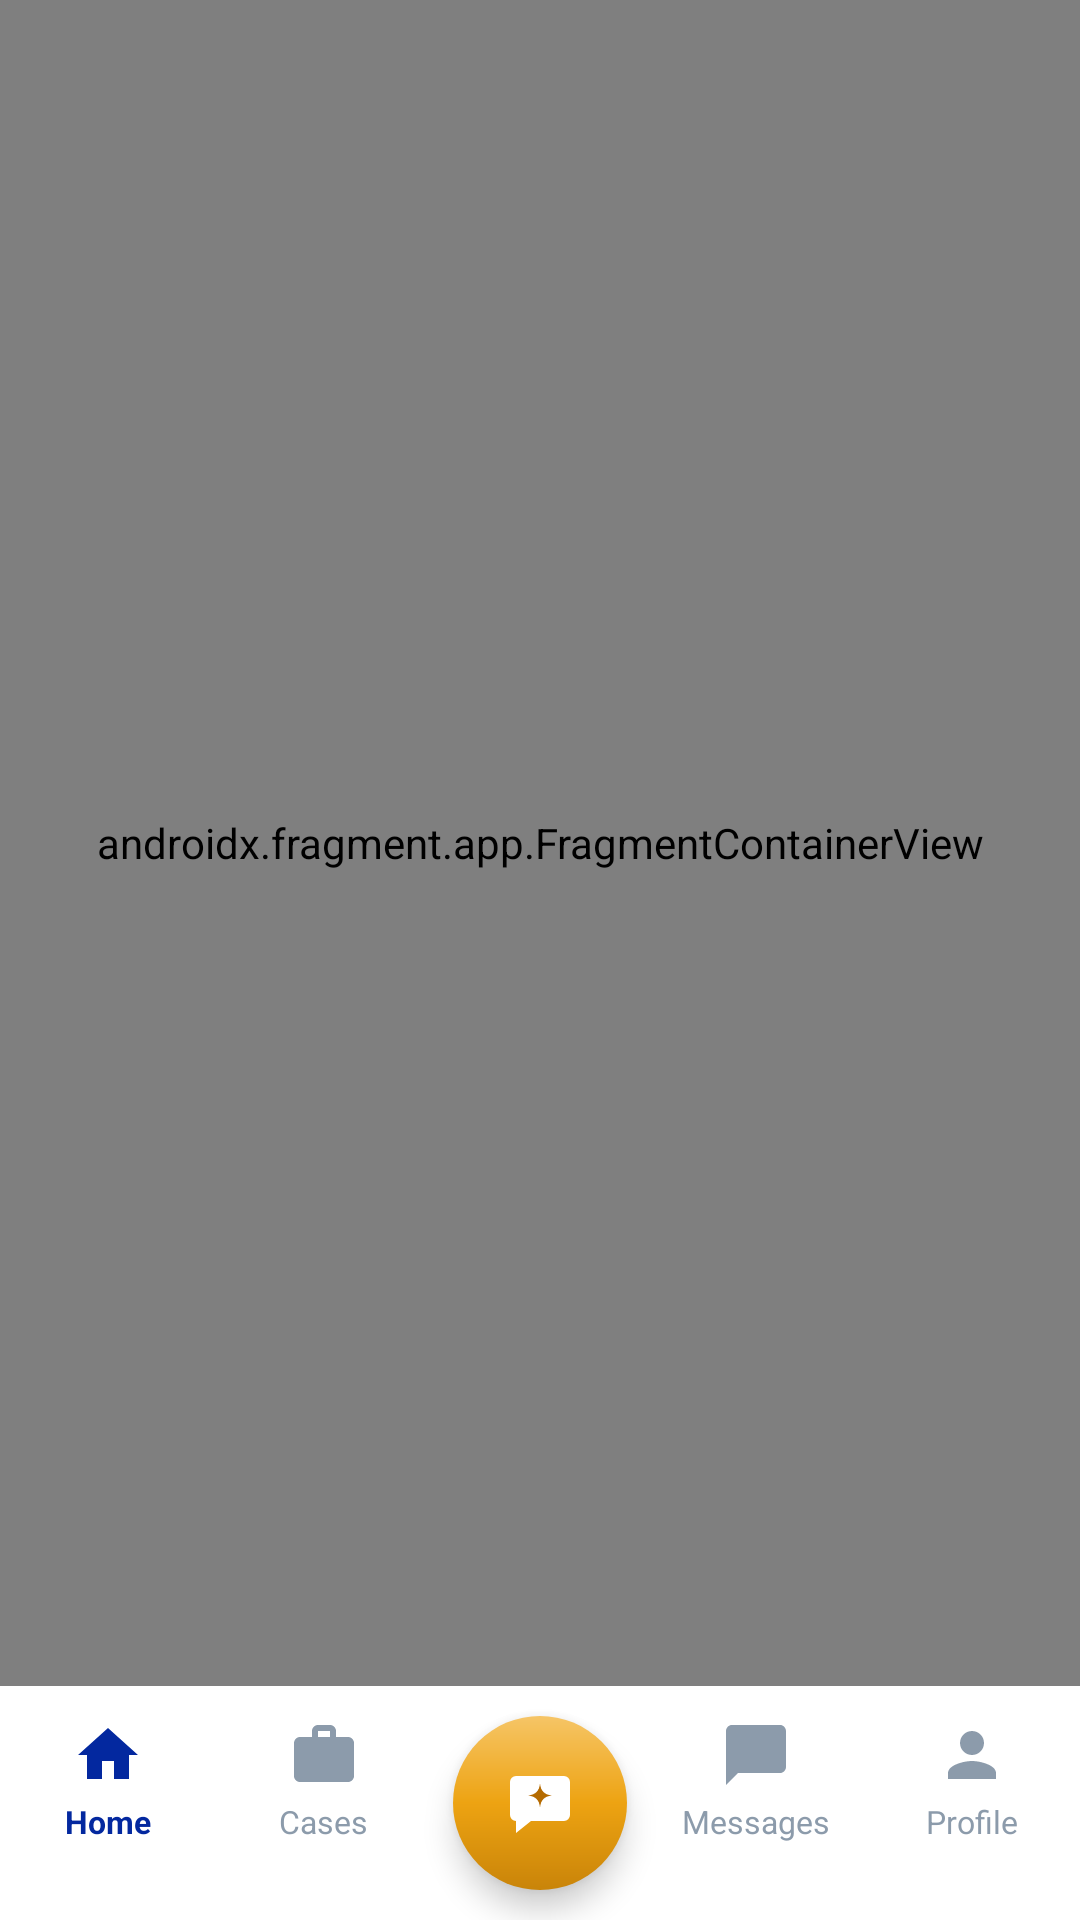

Named icons in this screenshot (1080*1920) and their bounding boxes, box(x1, y1, x2, y2):
Open chat assistant: box(453, 1716, 627, 1890)
